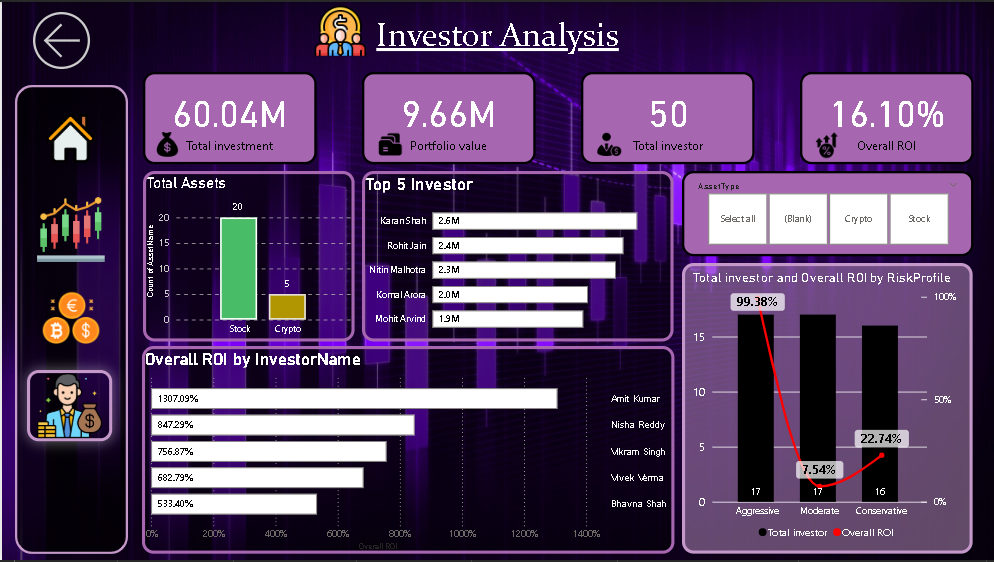

Layout of this report page (visuals, bound fields, positions):
{"tool":"powerbi","page":{"name":"Investor Analysis","canvas":[1280,720],"ordinal":4},"visuals":[{"type":"card","title":"Daily Volatilty %","fields":{"Values":["measure.Total investment"]},"box":[182.2,90.6,224.1,118.6],"z":0},{"type":"shape","box":[16.2,107,145.8,605.2],"z":0,"group":"g1"},{"type":"textbox","box":[448.3,9.9,383.4,70.5],"z":1000},{"type":"actionButton","box":[31.1,3.3,99.8,91.7],"z":2000},{"type":"image","box":[34.3,144.2,107.1,63.1],"z":2000,"group":"g1"},{"type":"group","id":"g1","title":"Group 1","box":[16.2,107,145.8,605.2],"z":3000},{"type":"card","fields":{"Values":["Measure.Portfolio value"]},"box":[464.6,90.6,224.1,118.6],"z":4000},{"type":"image","box":[43.9,247.7,90.3,89],"z":5000},{"type":"image","box":[31.4,474.8,109.7,91.6],"z":5000,"group":"g1"},{"type":"card","fields":{"Values":["Measure.Total investor"]},"box":[747,90.6,224.1,118.6],"z":6000},{"type":"card","fields":{"Values":["Measure.Overall ROI"]},"box":[1029.4,90.6,224.1,118.6],"z":7000},{"type":"columnChart","title":"Total Assets","fields":{"Category":["Dim_assets.AssetType"],"Y":["CountNonNull(Dim_assets.AssetName)"]},"box":[182.2,218.3,273.3,219.8],"z":8000},{"type":"barChart","title":"Top 5 Investor","fields":{"Category":["Dim_Investors.InvestorName"],"Y":["measure.Total investment"]},"box":[464.8,218.3,401.9,219.8],"z":9000},{"type":"barChart","fields":{"Category":["Dim_Investors.InvestorName"],"Y":["measure.Overall ROI"]},"box":[180.4,444.1,686.5,267.8],"z":10000},{"type":"lineStackedColumnComboChart","fields":{"Category":["Dim_Investors.RiskProfile"],"Y":["measure.Total investor"],"Y2":["measure.Overall ROI"]},"box":[877.4,336.8,375.5,375.5],"z":11000},{"type":"image","box":[387.7,2.8,98.7,70.5],"z":12000},{"type":"image","box":[186.1,167.8,55,32.4],"z":13000},{"type":"image","box":[473.7,167.8,55,32.4],"z":14000},{"type":"image","box":[42.6,371.6,92.9,72.3],"z":15000},{"type":"image","box":[755.6,167.8,55,32.4],"z":16000},{"type":"image","box":[1040.4,167.8,47.9,33.8],"z":17000},{"type":"actionButton","box":[38.7,138.1,100.6,92.9],"z":18000},{"type":"actionButton","box":[33.5,471,109.7,104.5],"z":19000},{"type":"actionButton","box":[41.3,246.5,100.6,92.9],"z":20000},{"type":"actionButton","box":[40,362.6,100.6,92.9],"z":21000},{"type":"slicer","fields":{"Values":["Dim_assets.AssetType"]},"box":[877.6,218.3,375.9,109.9],"z":22000}]}

Visuals, with their boxes in screenshot pixels (x1, y1, x2, y2), scaled from the page's 1280x720 canvas onto the 994x562 screenshot:
"Daily Volatilty %" card: region(141, 71, 316, 163)
shape: region(13, 84, 126, 556)
textbox: region(348, 8, 646, 63)
actionButton: region(24, 3, 102, 74)
image: region(27, 113, 110, 162)
"Group 1" group: region(13, 84, 126, 556)
card - Measure.Portfolio value: region(361, 71, 535, 163)
image: region(34, 193, 104, 263)
image: region(24, 371, 110, 442)
card - Measure.Total investor: region(580, 71, 754, 163)
card - Measure.Overall ROI: region(799, 71, 973, 163)
"Total Assets" columnChart: region(141, 170, 354, 342)
"Top 5 Investor" barChart: region(361, 170, 673, 342)
barChart - Dim_Investors.InvestorName x measure.Overall ROI: region(140, 347, 673, 556)
lineStackedColumnComboChart - Dim_Investors.RiskProfile x measure.Total investor: region(681, 263, 973, 556)
image: region(301, 2, 378, 57)
image: region(145, 131, 187, 156)
image: region(368, 131, 411, 156)
image: region(33, 290, 105, 346)
image: region(587, 131, 629, 156)
image: region(808, 131, 845, 157)
actionButton: region(30, 108, 108, 180)
actionButton: region(26, 368, 111, 449)
actionButton: region(32, 192, 110, 265)
actionButton: region(31, 283, 109, 356)
slicer - Dim_assets.AssetType: region(682, 170, 973, 256)
